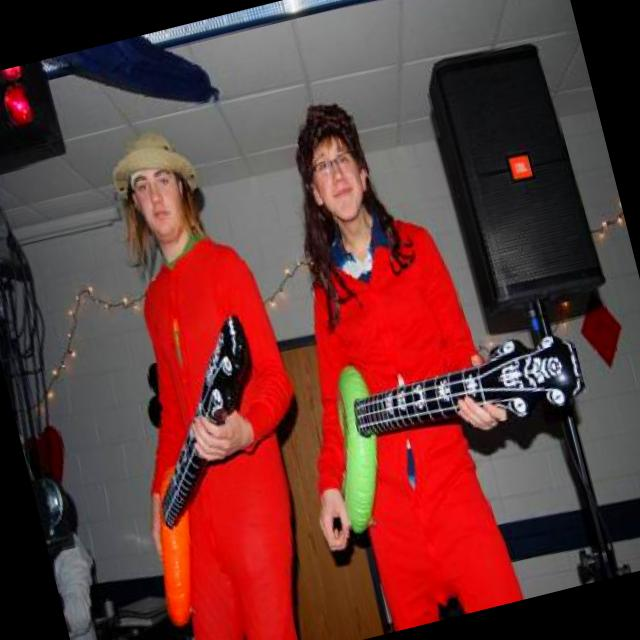Person: (246, 80, 594, 622), (54, 108, 360, 640), (32, 478, 125, 640)
